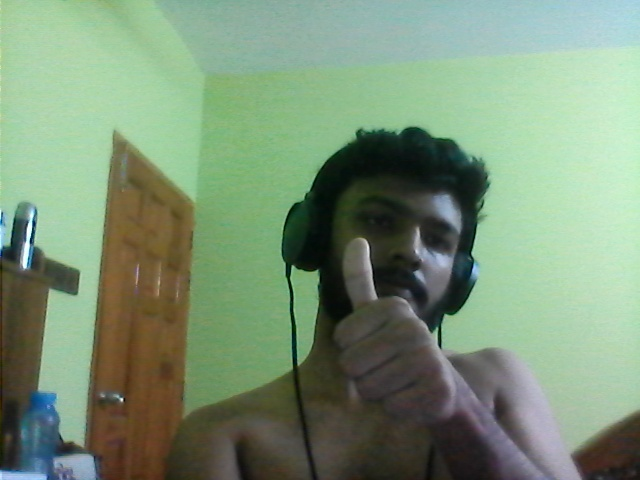Yes: (328, 237, 473, 429)
